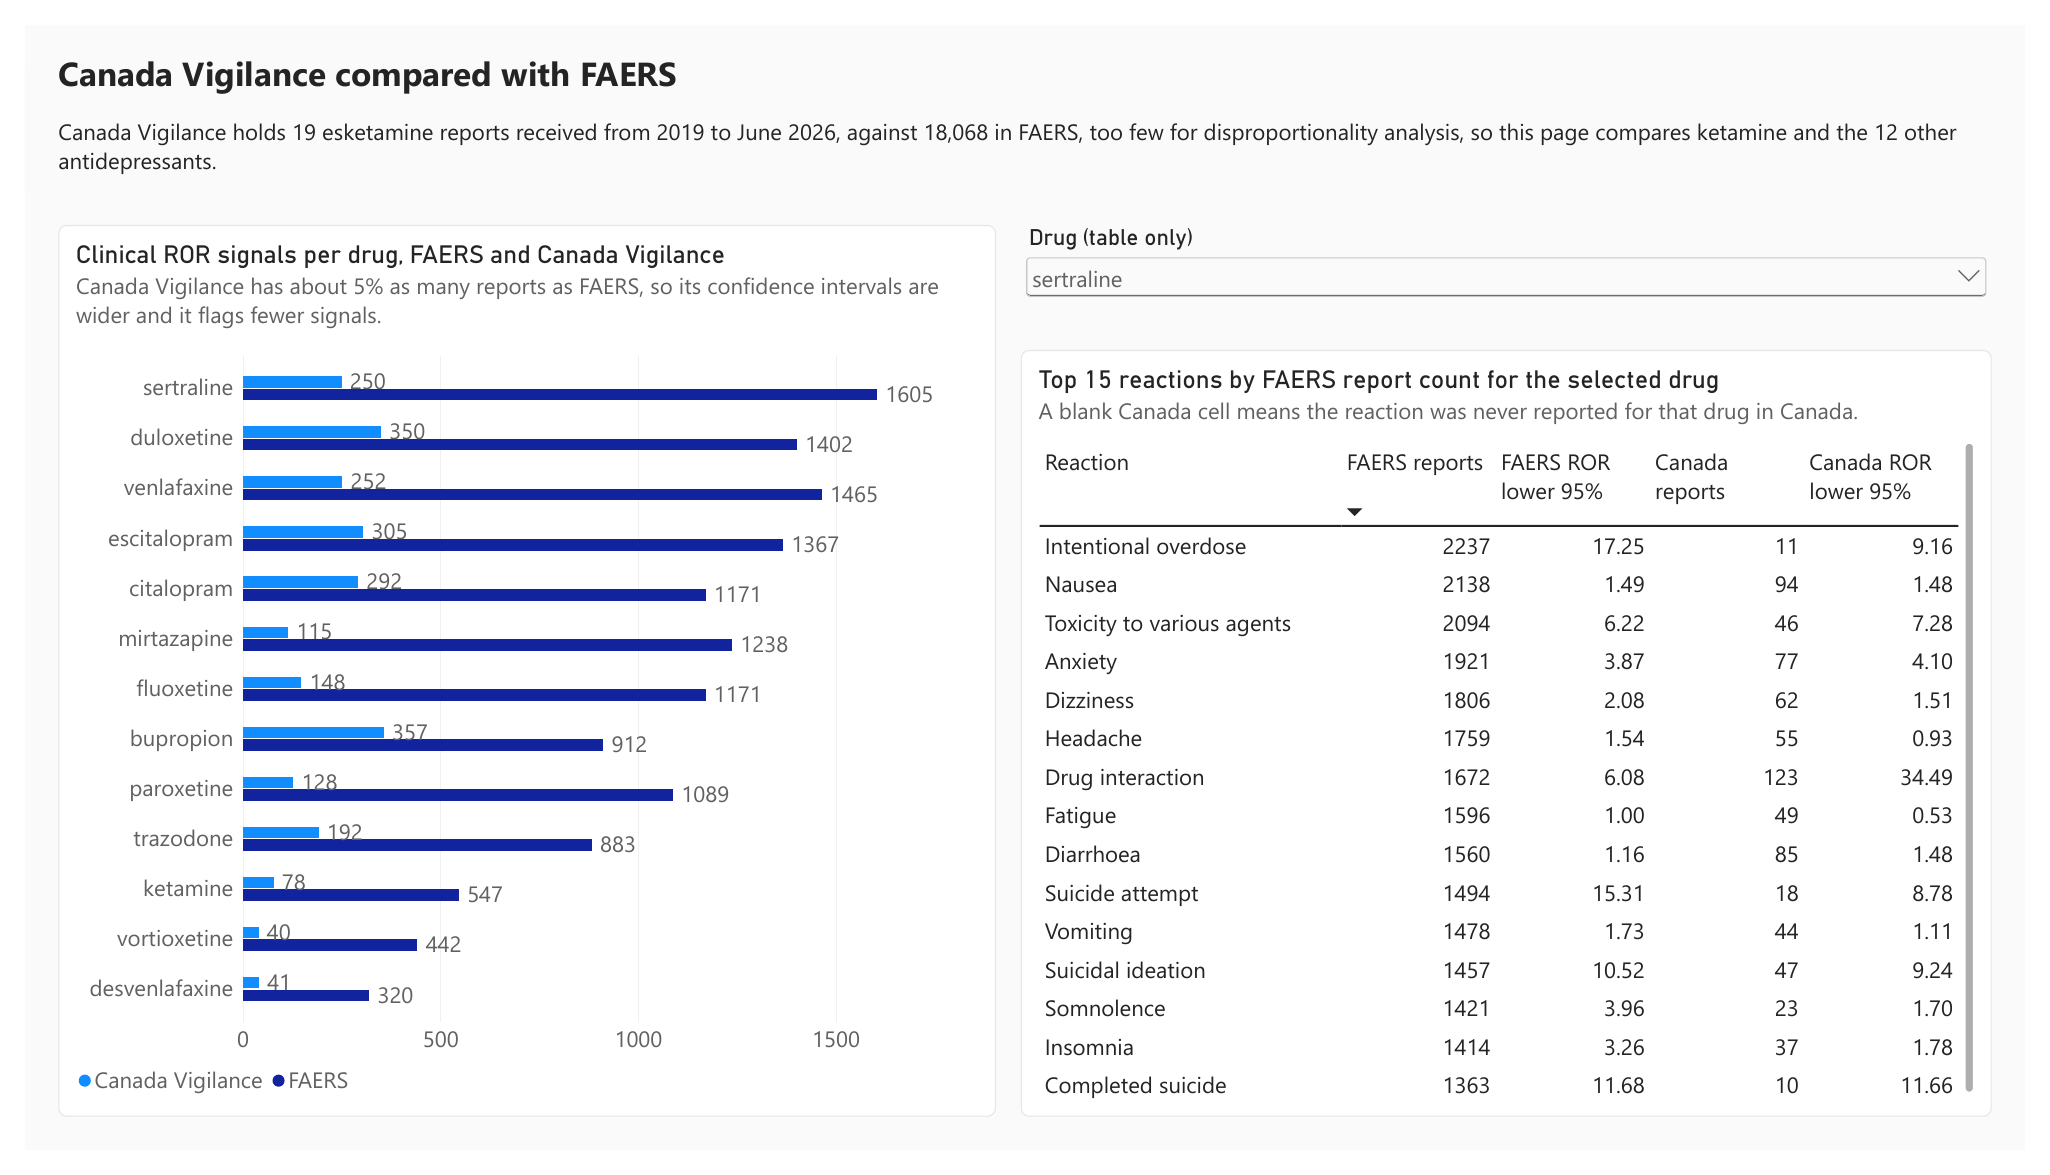

The dashboard page shown, as its layout file describes it:
{"tool":"powerbi","page":{"name":"Canada vs FAERS","canvas":[1920,1080],"ordinal":3},"visuals":[{"type":"textbox","box":[32,24,1856,64],"z":0},{"type":"textbox","box":[32,88,1856,80],"z":1000},{"type":"clusteredBarChart","title":"Clinical ROR signals per drug, FAERS and Canada Vigilance","fields":{"Category":["Drug.exposure"],"Series":["Signals.Database"],"Y":["_Measures.Signals (ROR)"]},"box":[32,192,900,856],"z":2000},{"type":"slicer","fields":{"Values":["Drug.exposure"]},"box":[956,192,932,96],"z":3000},{"type":"tableEx","title":"Top 15 reactions by FAERS report count for the selected drug","fields":{"Values":["Signals.pt","_Measures.FAERS reports","_Measures.FAERS ROR lower","_Measures.CV reports","_Measures.CV ROR lower"]},"box":[956,312,932,736],"z":4000}]}

Visuals, with their boxes in screenshot pixels (x1, y1, x2, y2), scaled from the page's 1920x1080 canvas onto the 2050x1175 screenshot:
textbox: detection(34, 26, 2016, 96)
textbox: detection(34, 96, 2016, 183)
"Clinical ROR signals per drug, FAERS and Canada Vigilance" clusteredBarChart: detection(34, 209, 995, 1140)
slicer - Drug.exposure: detection(1021, 209, 2016, 313)
"Top 15 reactions by FAERS report count for the selected drug" tableEx: detection(1021, 339, 2016, 1140)
